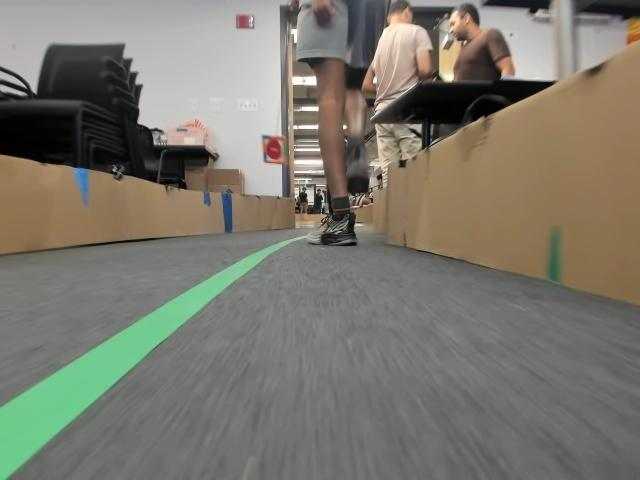Stop: (266, 140, 281, 158)
